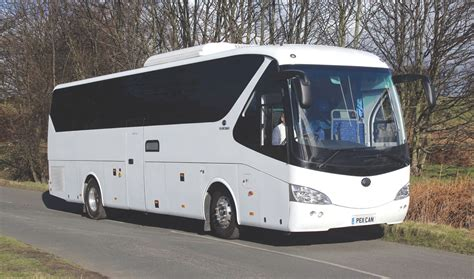bus: (50, 47, 407, 239)
